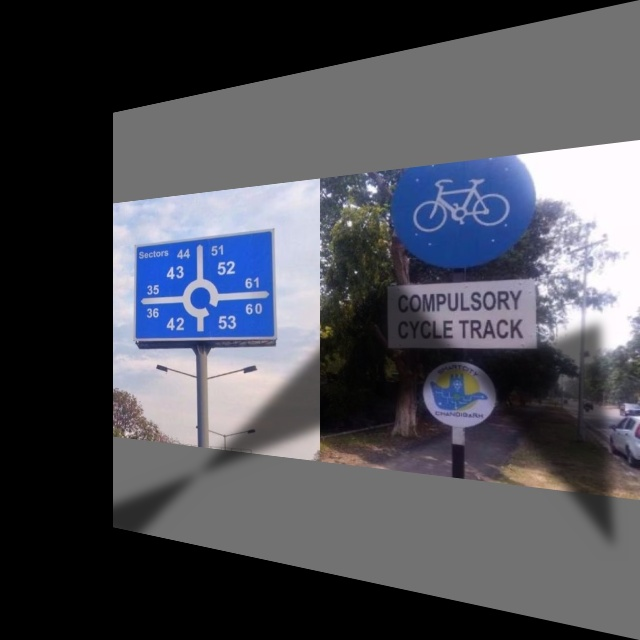Compulsory_Cycle_Track: (396, 153, 525, 270)
